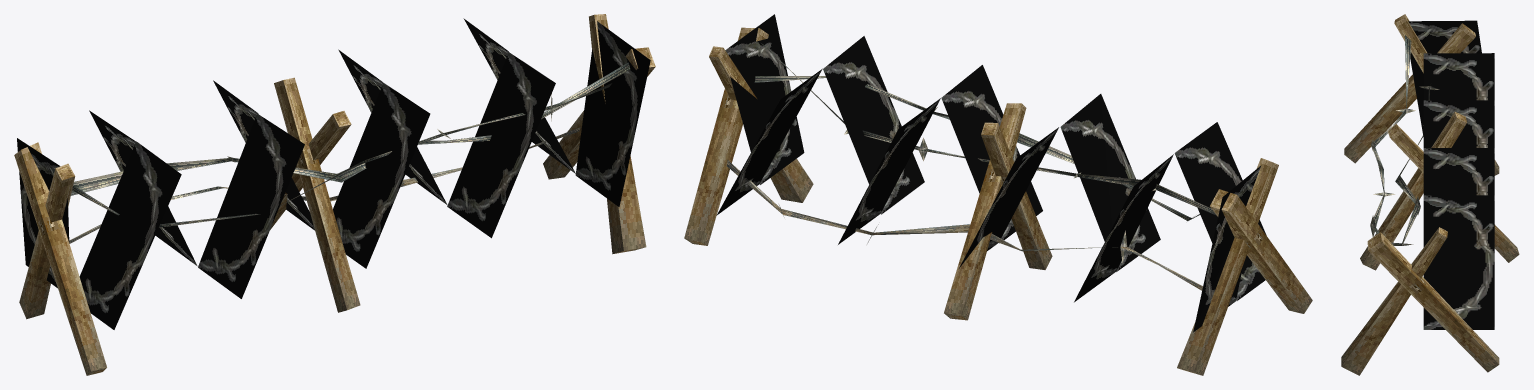
The model's file is C1SMBWIRE1_H.obj.
The picture shows the model from 3 angles, left to right: view 1: azimuth 30°, elevation 25°; view 2: azimuth 150°, elevation 25°; view 3: azimuth 270°, elevation 25°; orthographic projection. The views are drawn at different scales.
Visible parts, largest first — view 1: Node 4, Node 0, Node 6, Node 9, Node 7, Node 2, Node 5, Node 10, Node 3, Node 1, Node 8; view 2: Node 0, Node 4, Node 9, Node 6, Node 2, Node 7, Node 10, Node 8, Node 3, Node 5; view 3: Node 0, Node 2, Node 4, Node 9, Node 6, Node 7, Node 10, Node 3, Node 5, Node 1.
Part boxes in pixels (x1,y1,x2,y2): Node 4: (213,77,430,312); Node 0: (14,14,655,375); Node 6: (89,110,304,298); Node 9: (338,49,555,238); Node 7: (17,138,181,329); Node 2: (463,18,650,206); Node 5: (71,156,366,195); Node 10: (270,111,351,229); Node 3: (72,83,611,227); Node 1: (419,62,630,144); Node 8: (69,127,580,243); Node 0: (684,27,1312,375); Node 4: (941,65,1058,269); Node 9: (823,36,940,244); Node 6: (1060,94,1173,302); Node 2: (716,14,822,215); Node 7: (1174,122,1266,332); Node 10: (944,103,1026,320); Node 8: (726,160,1202,290); Node 3: (754,76,1200,221); Node 5: (920,149,1216,215); Node 0: (1341,14,1499,375); Node 2: (1423,195,1494,329); Node 4: (1360,100,1494,270); Node 9: (1423,148,1494,195); Node 6: (1423,53,1494,100); Node 7: (1408,20,1481,136); Node 10: (1388,124,1519,262); Node 3: (1370,35,1415,236); Node 5: (1395,84,1439,205); Node 1: (1391,196,1420,245).
Bounding box in the file's own units: 7.24 × 2.34 × 2.46.
Materials: 12 (12 with a texture image).
